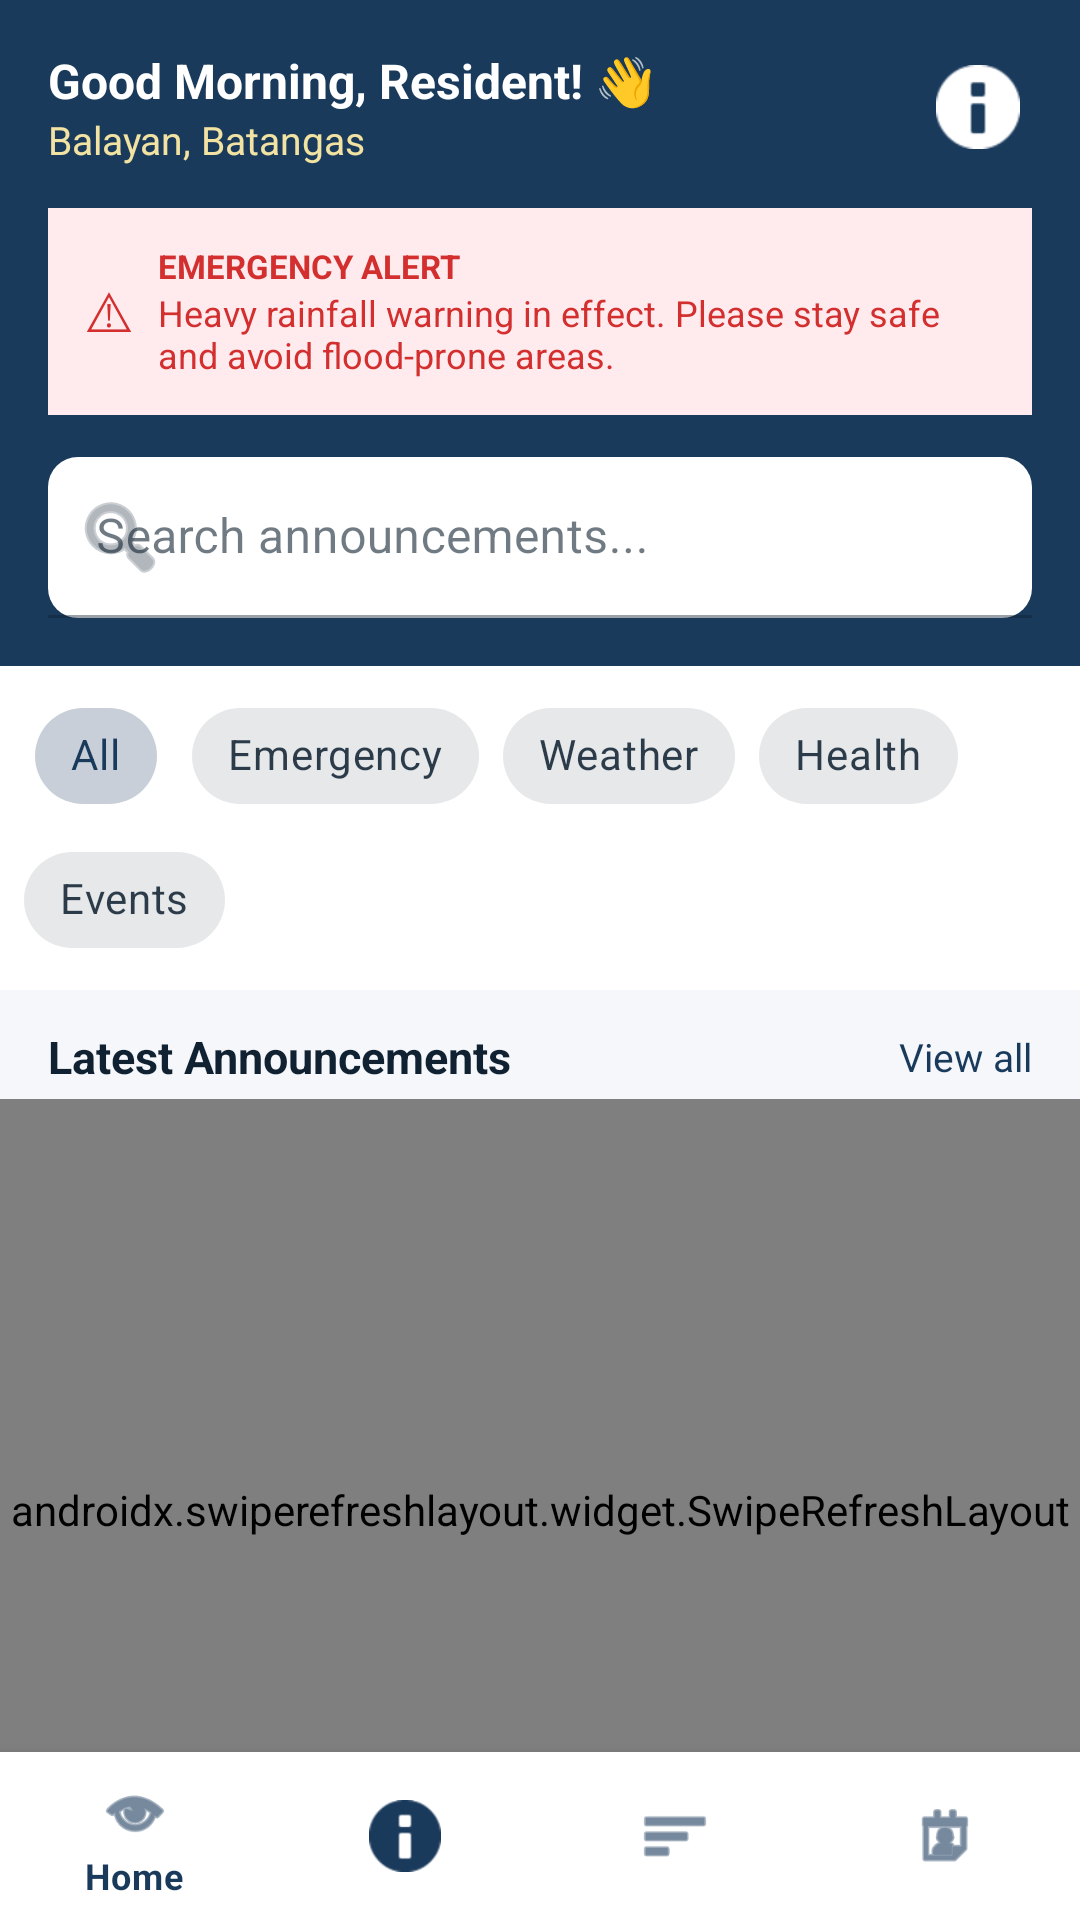

Named icons in this screenshot (1080*1920) and their centers, (x=x, y=y):
info: (x=978, y=107)
